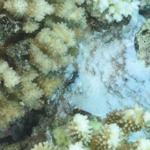alive: (5, 2, 145, 148)
